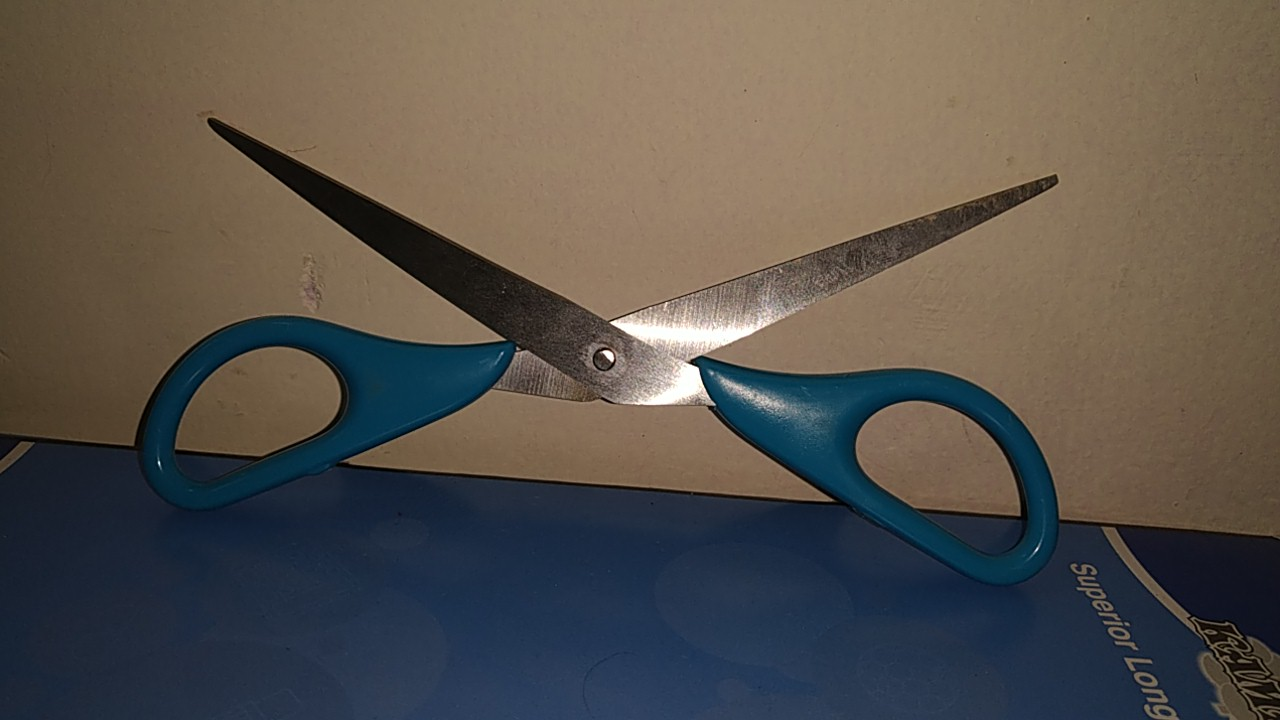scissor: (127, 97, 1087, 621)
